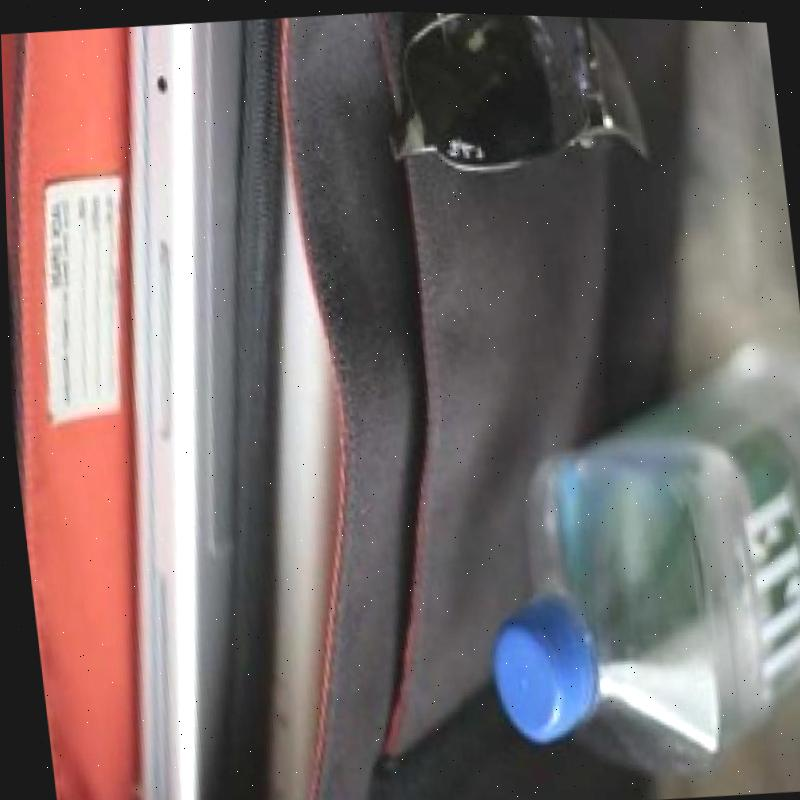botella: (453, 328, 800, 785)
